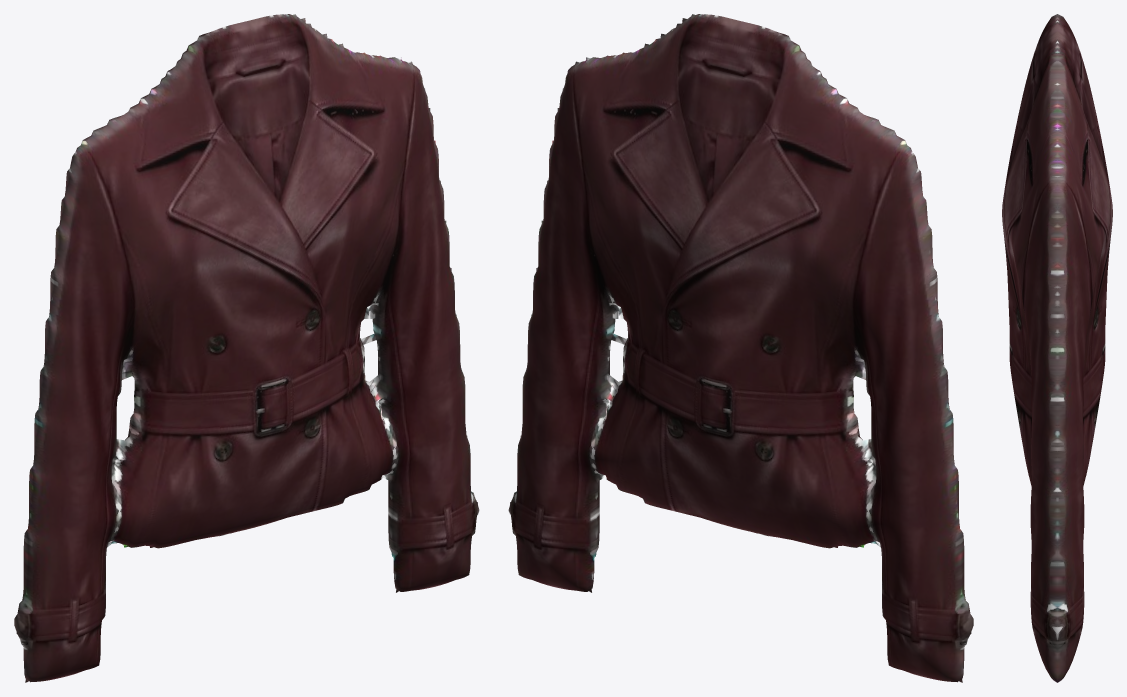
File: prod-ae-burgundy-leather-trench.glb
3 renders of one model, left to right at view 1: azimuth 30°, elevation 25°; view 2: azimuth 150°, elevation 25°; view 3: azimuth 270°, elevation 25°, orthographic. The views are drawn at different scales.
Visible parts, largest first — view 1: prod-ae-burgundy-leather-trench_standalone; view 2: prod-ae-burgundy-leather-trench_standalone; view 3: prod-ae-burgundy-leather-trench_standalone.
Boxes of the visible parts, <box> form: prod-ae-burgundy-leather-trench_standalone: <box>14,14,479,682</box>; prod-ae-burgundy-leather-trench_standalone: <box>508,14,973,682</box>; prod-ae-burgundy-leather-trench_standalone: <box>1002,14,1112,682</box>.
Size of the model in its own units: 0.5673 by 0.7186 by 0.1298.
Materials: 1 (1 with a texture image).
